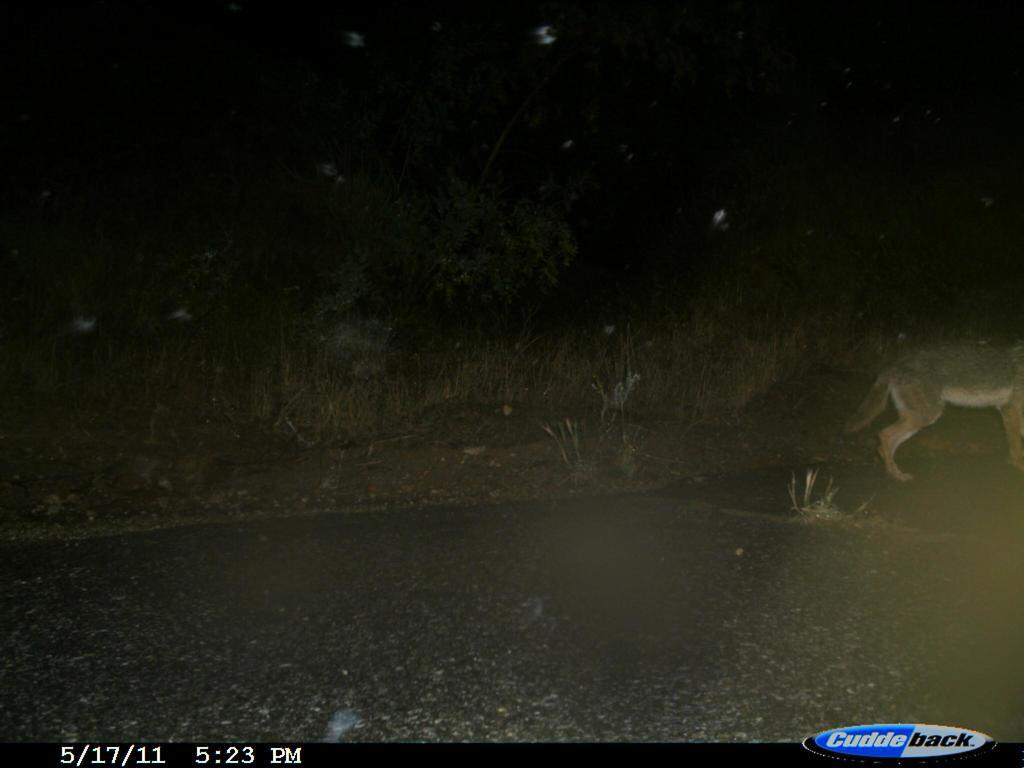coyote: (841, 337, 1023, 487)
